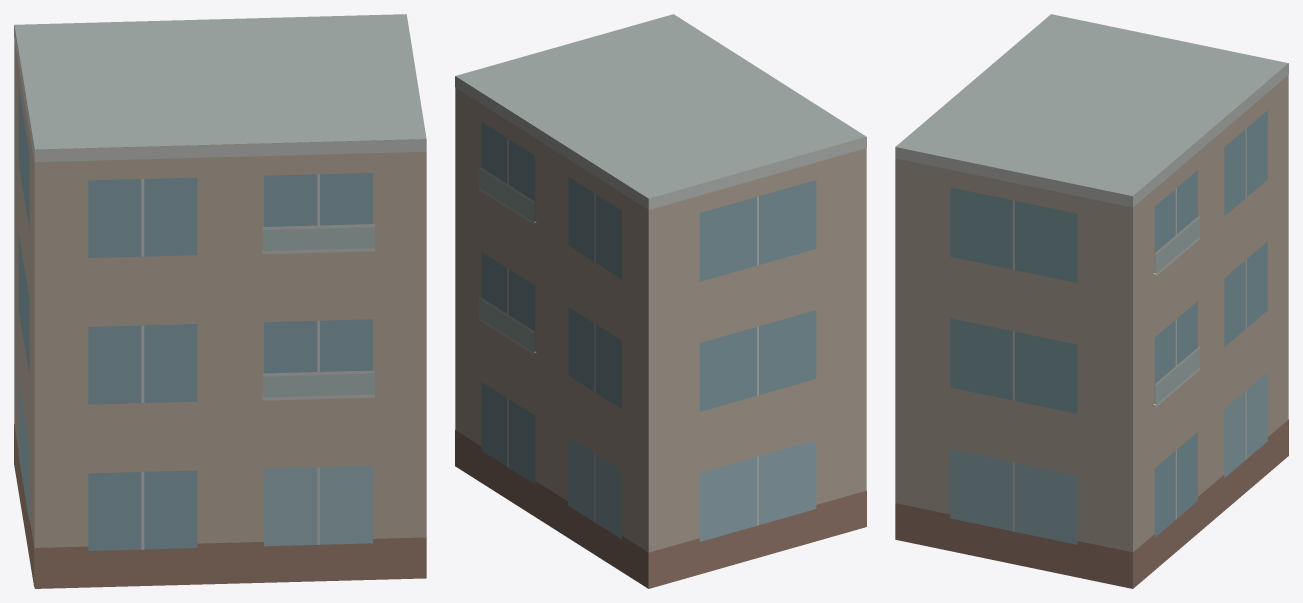
The model's file is survey-upis-32725409.glb.
The picture shows the model from 3 angles, left to right: view 1: azimuth 30°, elevation 25°; view 2: azimuth 150°, elevation 25°; view 3: azimuth 270°, elevation 25°; orthographic projection. The views are drawn at different scales.
Visible parts, largest first — view 1: survey-upis-32725409.tmp; view 2: survey-upis-32725409.tmp; view 3: survey-upis-32725409.tmp.
Boxes of the visible parts, left/top/right/bottom form: survey-upis-32725409.tmp: left=14, top=14, right=426, bottom=588; survey-upis-32725409.tmp: left=455, top=14, right=866, bottom=588; survey-upis-32725409.tmp: left=895, top=14, right=1288, bottom=588.
Bounding box in the file's own units: 8.37 × 8.4 × 7.64.
